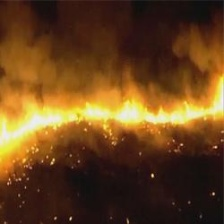fire: (96, 96, 222, 127), (1, 103, 87, 148)
smoke: (5, 8, 222, 76)
